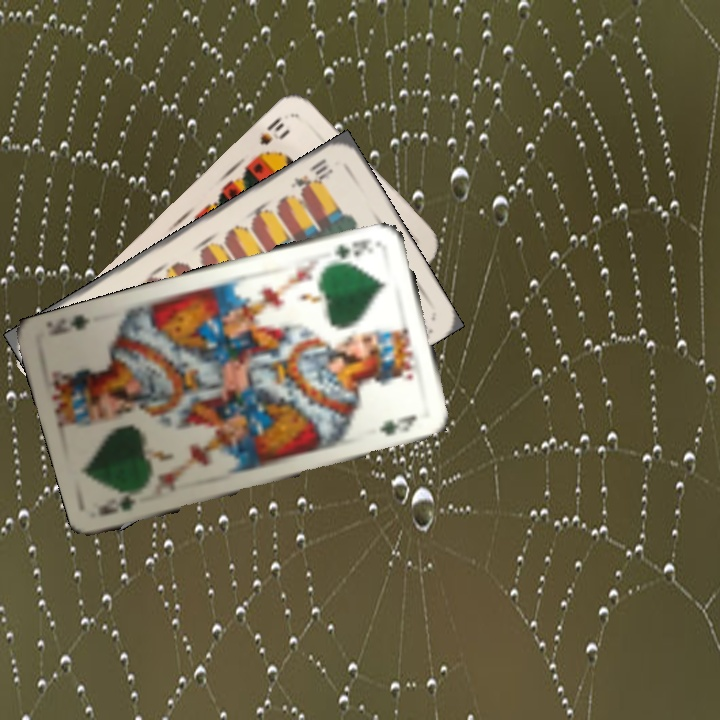E10: (286, 154, 336, 197)
GK: (331, 235, 375, 261), (114, 485, 147, 514)
S10: (255, 112, 287, 148)
